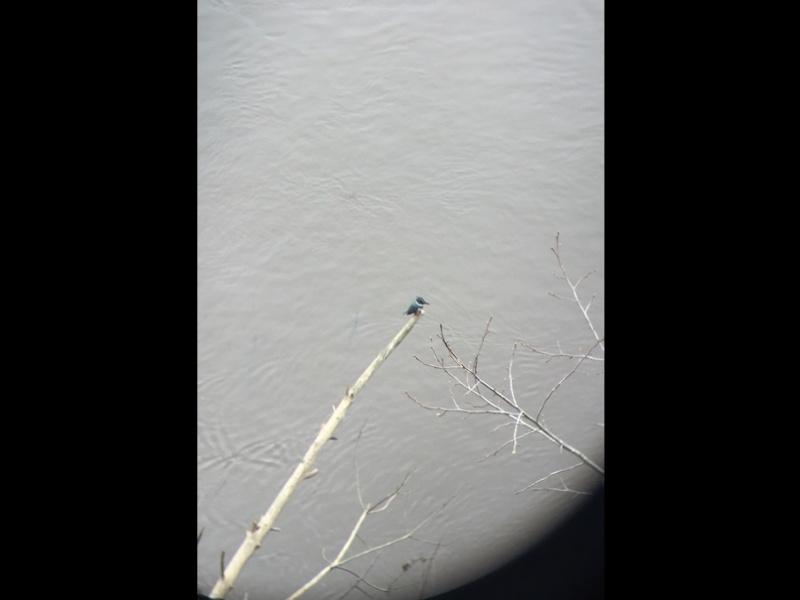kingfisher: (405, 294, 428, 320)
